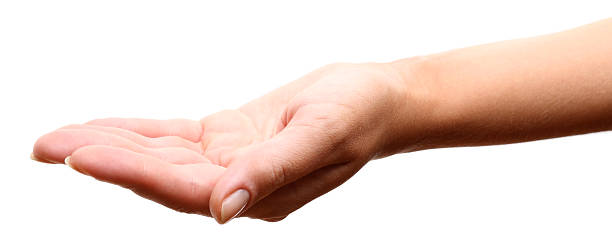non-diseased: (34, 70, 402, 217)
